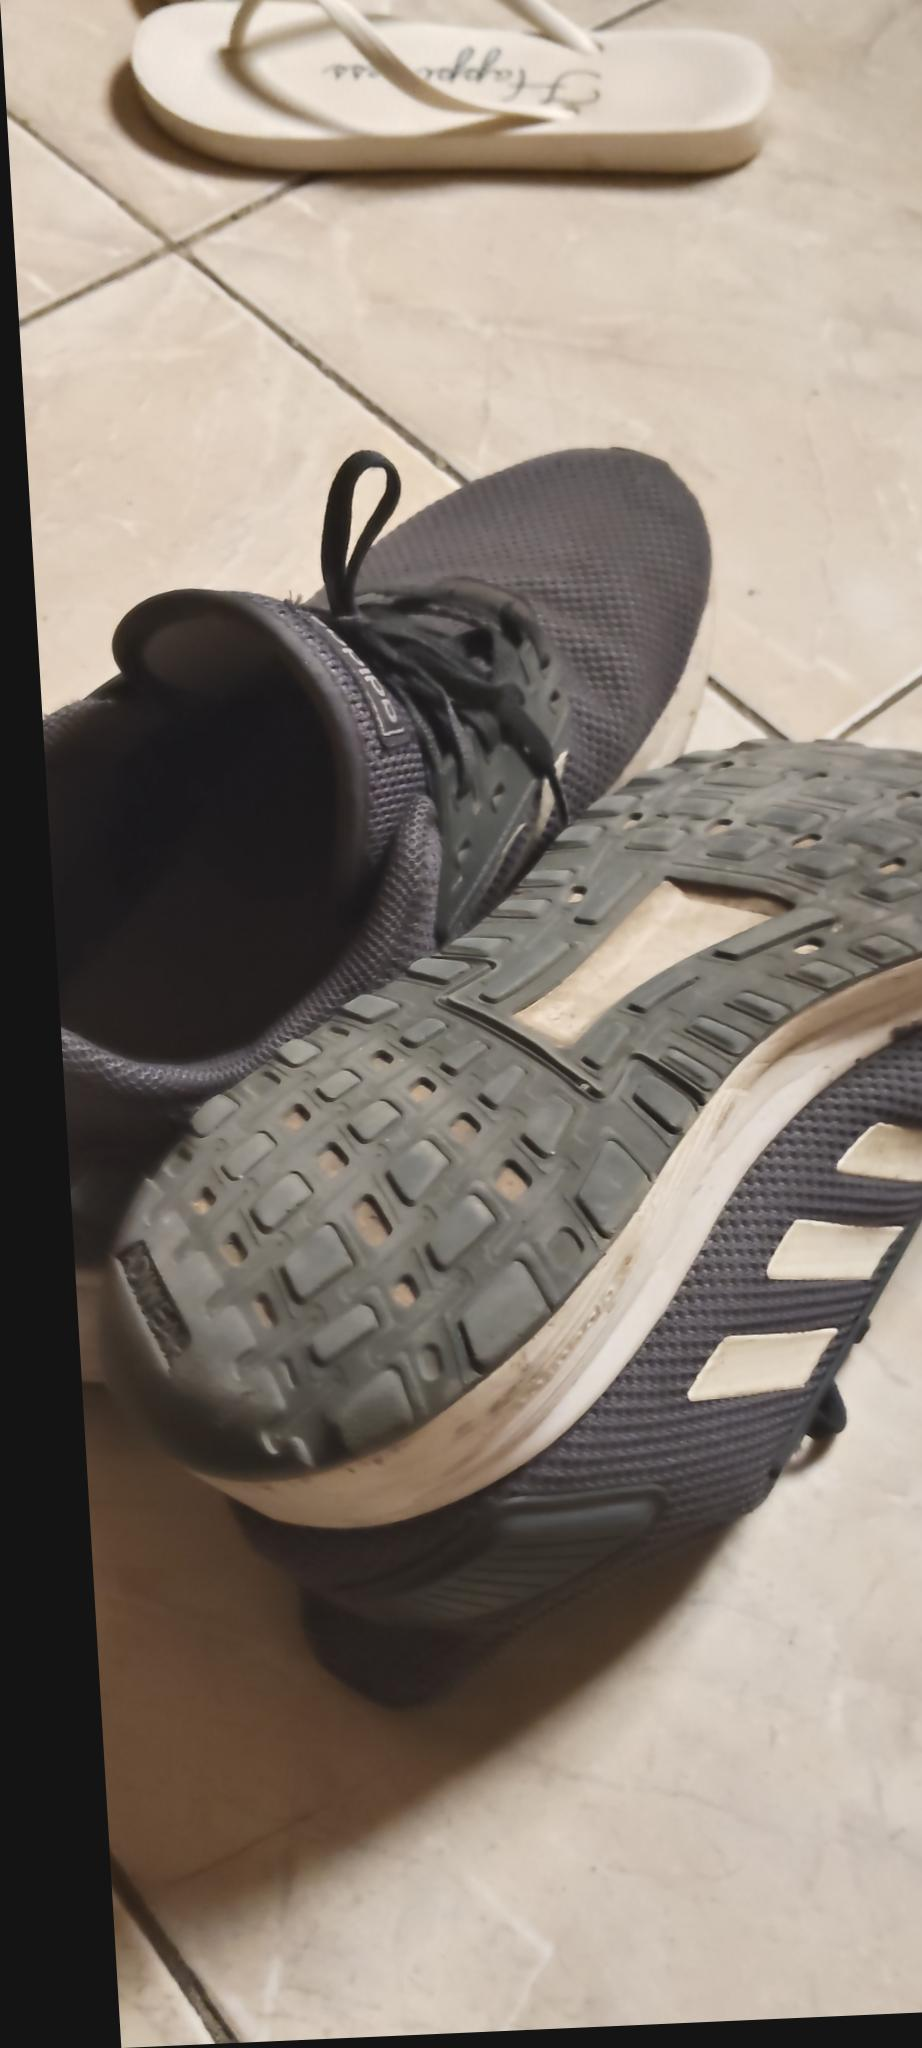Shoes: (76, 728, 922, 1680), (27, 432, 750, 1242)
